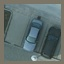car: (26, 17, 39, 51), (45, 24, 58, 58)
